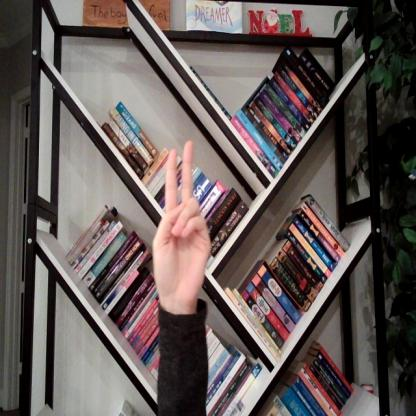two: (151, 126, 216, 313)
